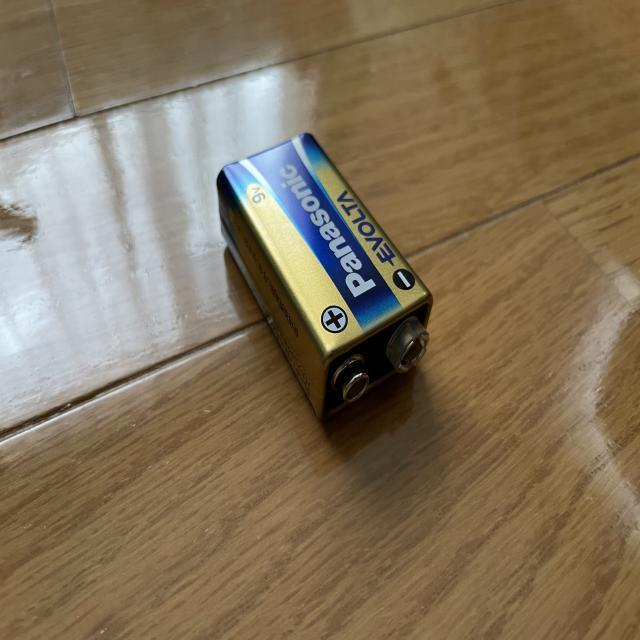9V: (216, 132, 435, 422)
